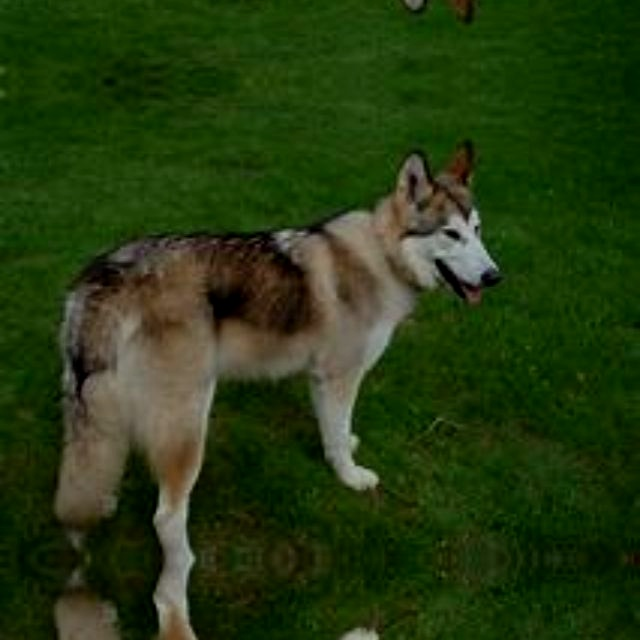dog: (53, 143, 509, 549), (53, 568, 509, 640), (53, 0, 509, 19)
